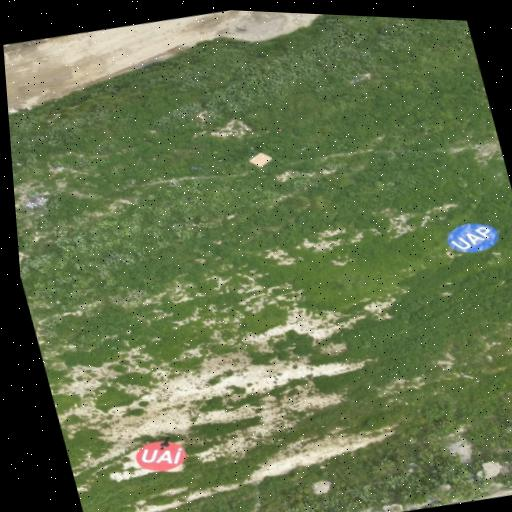person: (160, 437, 169, 450)
uai: (135, 441, 186, 471)
uap: (447, 223, 498, 252)
